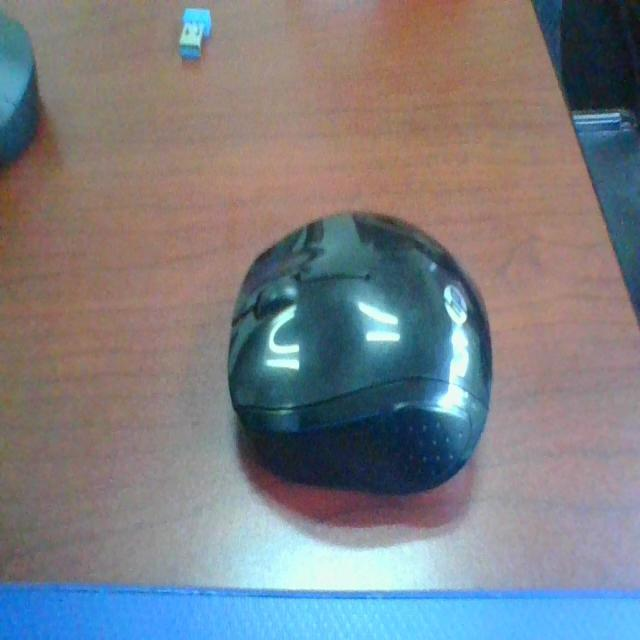mouse: (200, 209, 528, 526)
